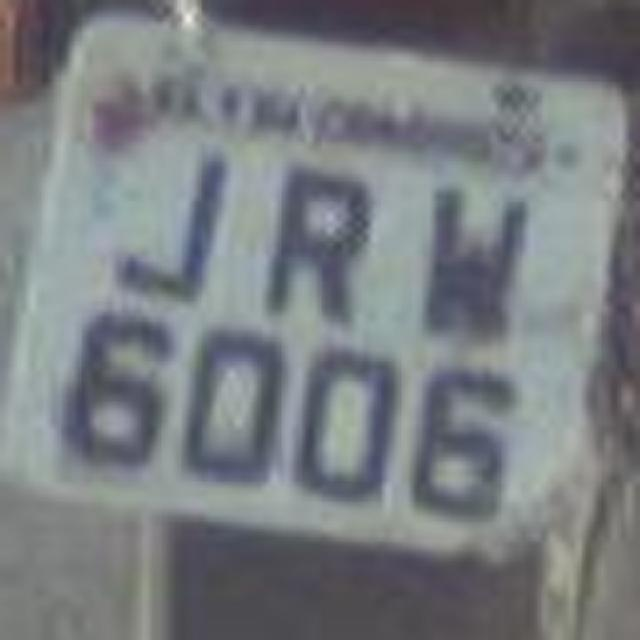0: (171, 312, 304, 496), (284, 328, 416, 504)
6: (51, 292, 184, 488), (396, 345, 532, 520)
J: (104, 132, 228, 316)
R: (248, 156, 380, 332)
W: (404, 160, 524, 355)
